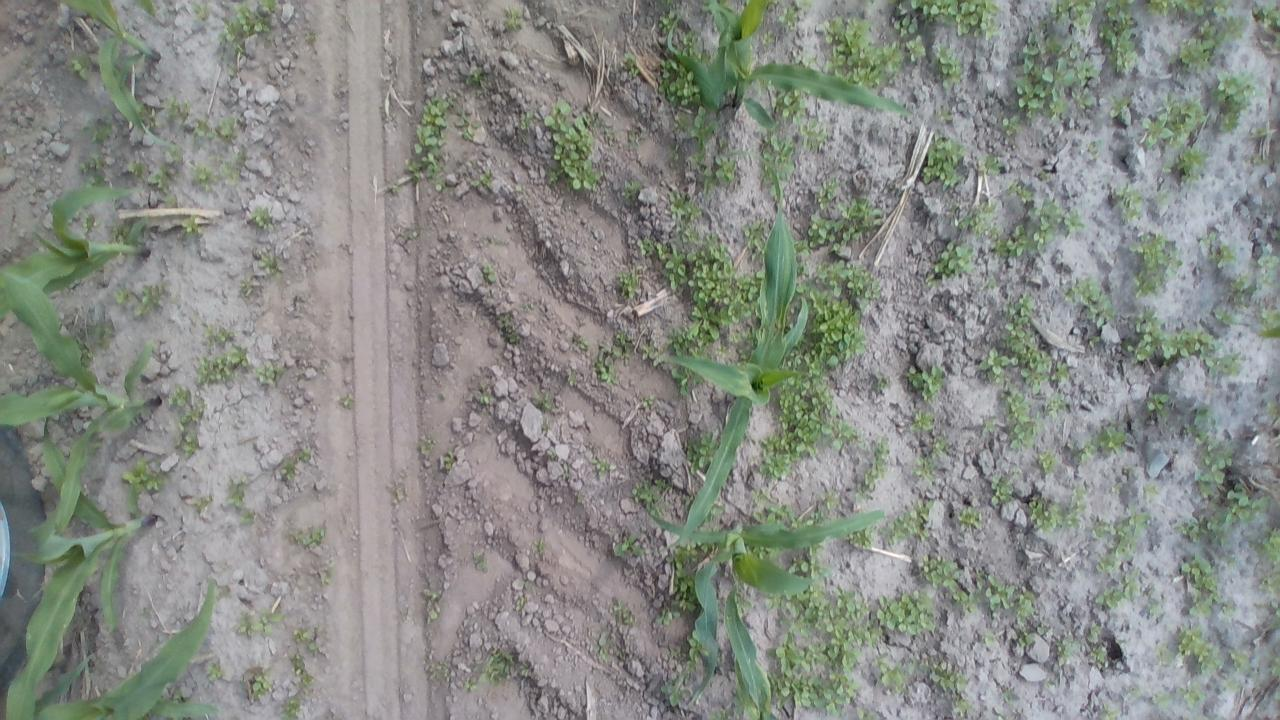Maize: (666, 151, 810, 548), (640, 499, 886, 719), (8, 418, 158, 720), (0, 270, 162, 534), (666, 0, 914, 130), (36, 578, 220, 720), (0, 185, 152, 322), (59, 0, 158, 134)
Weeds: (638, 238, 758, 354), (1014, 26, 1094, 116), (542, 99, 600, 190), (824, 17, 900, 86), (1180, 485, 1268, 544), (782, 379, 856, 449), (1003, 291, 1052, 393), (807, 290, 866, 370), (1124, 310, 1216, 358), (891, 0, 1000, 39), (806, 199, 882, 250), (769, 673, 860, 715), (762, 592, 866, 628), (1132, 232, 1184, 297), (405, 98, 447, 178), (874, 590, 937, 636), (1196, 429, 1232, 497), (815, 261, 880, 298), (881, 500, 933, 546), (1096, 512, 1150, 556), (1004, 391, 1043, 449), (922, 139, 968, 188), (196, 344, 248, 387), (1045, 486, 1089, 536), (828, 626, 876, 670), (764, 632, 812, 676), (1065, 278, 1115, 320), (1177, 626, 1220, 674), (1099, 26, 1140, 75), (224, 4, 269, 47), (658, 59, 700, 105), (1093, 568, 1140, 608), (860, 435, 890, 496), (1218, 68, 1262, 108), (760, 432, 796, 480), (932, 241, 978, 276), (483, 649, 530, 682), (902, 364, 942, 402), (959, 202, 1000, 239), (1180, 553, 1218, 592), (920, 554, 961, 588), (123, 458, 164, 490), (1058, 0, 1097, 32), (990, 468, 1022, 506), (790, 548, 833, 576), (978, 346, 1011, 382), (762, 132, 793, 169), (1174, 99, 1206, 133), (685, 434, 713, 472), (994, 225, 1028, 256), (1178, 38, 1215, 66), (691, 107, 710, 161), (661, 676, 693, 708), (134, 285, 164, 319), (986, 574, 1014, 610), (1142, 114, 1173, 146), (1146, 0, 1206, 16), (1028, 200, 1062, 228), (936, 46, 962, 82), (932, 664, 968, 690), (1112, 187, 1141, 219), (878, 660, 903, 694), (779, 91, 807, 121), (1256, 528, 1280, 562), (676, 570, 696, 610), (1202, 354, 1238, 376), (455, 108, 481, 138), (800, 119, 826, 149), (1189, 590, 1219, 616), (742, 217, 768, 246), (616, 270, 642, 298), (1230, 271, 1252, 304), (594, 352, 618, 382), (1106, 0, 1136, 24), (1177, 684, 1206, 708), (752, 505, 792, 522), (252, 610, 280, 634), (818, 176, 839, 208), (1098, 426, 1126, 450), (1058, 638, 1082, 666), (496, 316, 520, 343), (247, 674, 271, 700), (672, 544, 696, 570), (1220, 108, 1246, 132), (1179, 146, 1205, 170), (1213, 306, 1241, 328), (1254, 1, 1278, 26), (164, 95, 188, 120), (614, 534, 640, 557), (805, 641, 830, 664), (911, 410, 937, 432), (1146, 393, 1170, 416), (954, 590, 978, 613), (1110, 96, 1132, 121), (423, 588, 440, 620), (906, 35, 926, 62), (672, 368, 692, 395), (195, 117, 218, 140), (958, 507, 981, 530), (668, 192, 692, 214), (92, 322, 112, 348), (1225, 16, 1246, 40), (612, 600, 633, 624), (716, 157, 740, 178), (1046, 394, 1067, 418), (473, 159, 492, 185), (1032, 228, 1056, 248), (252, 207, 273, 229), (176, 435, 198, 456), (1064, 209, 1084, 232), (870, 374, 890, 396), (1027, 494, 1042, 523), (656, 608, 680, 626), (1016, 593, 1034, 617), (218, 115, 235, 140), (257, 365, 282, 382), (1251, 277, 1276, 294), (168, 385, 188, 406), (688, 634, 703, 662), (633, 487, 653, 508), (1010, 183, 1031, 203), (914, 457, 934, 478), (1074, 442, 1096, 461), (978, 157, 1004, 173), (68, 60, 88, 80), (1260, 309, 1280, 329), (1097, 557, 1122, 573), (221, 161, 239, 183), (778, 6, 796, 28), (1218, 246, 1236, 268), (1038, 450, 1056, 472), (1154, 642, 1172, 664), (78, 158, 104, 173), (681, 202, 700, 222), (1258, 254, 1280, 270), (906, 658, 928, 674), (96, 124, 114, 143), (418, 434, 437, 452), (1001, 116, 1020, 134), (114, 287, 132, 305), (308, 528, 326, 546), (503, 12, 521, 30), (1230, 650, 1248, 668), (1196, 20, 1216, 36), (238, 616, 254, 636), (850, 532, 870, 548), (292, 650, 306, 672), (624, 54, 638, 76), (316, 568, 333, 586), (432, 665, 450, 682), (952, 696, 969, 714), (535, 389, 551, 408), (1270, 565, 1280, 595), (1054, 361, 1068, 382), (260, 256, 278, 272), (614, 328, 630, 346), (624, 182, 642, 198), (936, 104, 952, 122), (1102, 704, 1120, 720), (192, 496, 212, 510), (702, 174, 716, 194), (1172, 172, 1200, 182), (1270, 600, 1280, 628), (931, 436, 945, 456), (149, 169, 166, 185), (194, 2, 212, 17), (473, 554, 488, 572), (1170, 134, 1188, 149), (230, 483, 243, 503), (128, 160, 144, 176), (181, 216, 197, 232), (216, 326, 232, 342), (642, 344, 658, 360), (681, 225, 697, 241), (794, 240, 810, 256), (673, 112, 688, 129), (630, 126, 644, 144), (602, 125, 616, 143), (1210, 0, 1230, 12), (196, 165, 212, 180), (208, 664, 223, 680), (282, 460, 296, 477), (682, 31, 696, 48), (1154, 692, 1171, 706), (1156, 191, 1174, 204), (575, 334, 589, 350), (482, 266, 496, 282), (518, 112, 532, 128), (1164, 96, 1178, 112), (1088, 625, 1102, 641), (793, 282, 810, 295), (660, 12, 670, 34), (181, 411, 199, 423), (1092, 644, 1104, 662), (168, 148, 183, 162), (465, 72, 480, 86), (111, 226, 130, 237), (594, 458, 610, 471), (294, 628, 308, 642), (296, 448, 311, 461), (83, 214, 95, 230), (1270, 657, 1280, 676), (1144, 483, 1158, 496), (286, 700, 298, 715), (806, 513, 824, 523), (262, 0, 278, 11), (442, 451, 453, 467), (1199, 233, 1212, 246), (640, 396, 654, 408), (796, 0, 812, 10), (340, 395, 352, 408), (752, 489, 764, 502), (649, 508, 664, 518), (762, 30, 772, 45), (303, 32, 315, 44), (1162, 162, 1174, 174), (1018, 634, 1030, 646), (824, 496, 836, 508), (92, 176, 105, 187), (516, 596, 526, 610), (982, 417, 992, 431), (654, 478, 666, 489), (1037, 623, 1048, 635), (1225, 678, 1238, 688), (984, 634, 994, 647), (860, 712, 876, 720), (1272, 30, 1280, 46), (598, 648, 607, 662), (1089, 140, 1100, 151), (1112, 483, 1123, 494), (240, 277, 250, 289), (204, 325, 214, 337), (463, 678, 475, 688), (1271, 401, 1280, 414), (1225, 603, 1234, 616), (535, 538, 543, 552), (1146, 604, 1156, 615), (292, 531, 304, 540), (568, 374, 577, 386), (1127, 686, 1140, 694), (304, 674, 314, 684), (598, 632, 605, 646), (1196, 408, 1210, 415), (240, 512, 252, 520), (986, 279, 996, 288), (622, 352, 629, 364), (1036, 170, 1046, 178), (796, 263, 804, 273), (1122, 465, 1132, 473), (481, 395, 489, 404), (234, 47, 244, 54), (1228, 555, 1234, 566), (310, 642, 318, 650), (389, 182, 397, 190), (1184, 424, 1192, 432), (1262, 577, 1270, 584), (542, 422, 550, 428), (436, 184, 444, 190), (1046, 680, 1053, 686)
